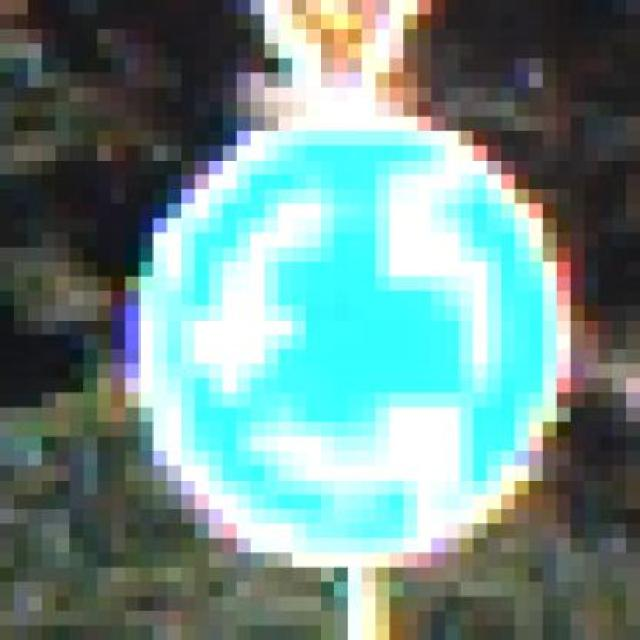Round-About: (56, 59, 626, 568)
